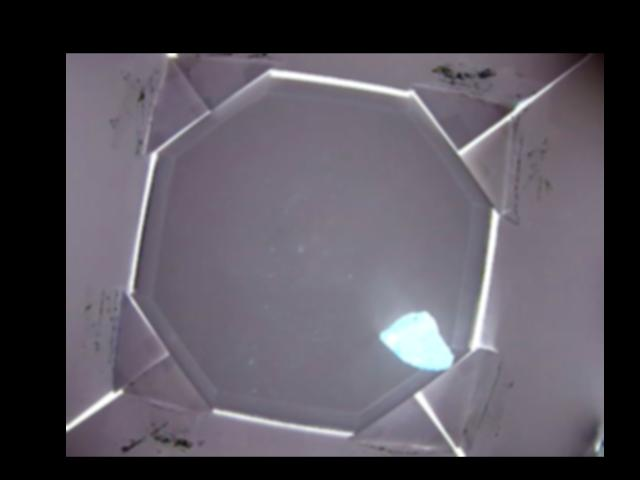Brisk: (378, 311, 456, 370)
